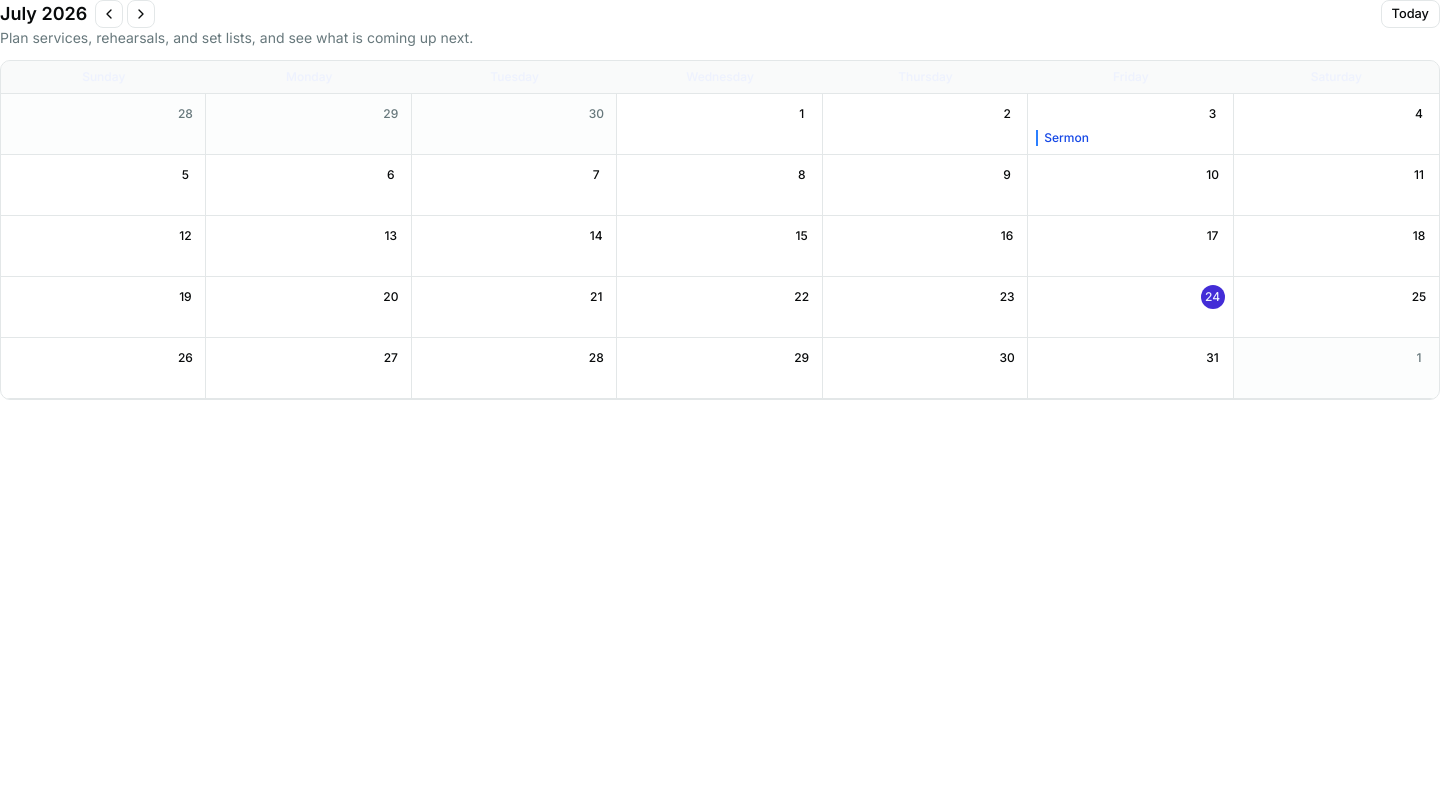
it: ScheduleCalendar › shows 'No roster yet.' and 'No songs yet.' placeholders in the popover when a lineup has neither
This screenshot has width=1440, height=810.
Click the button "Sermon" at (1130, 138), box [1036,130,1224,146]
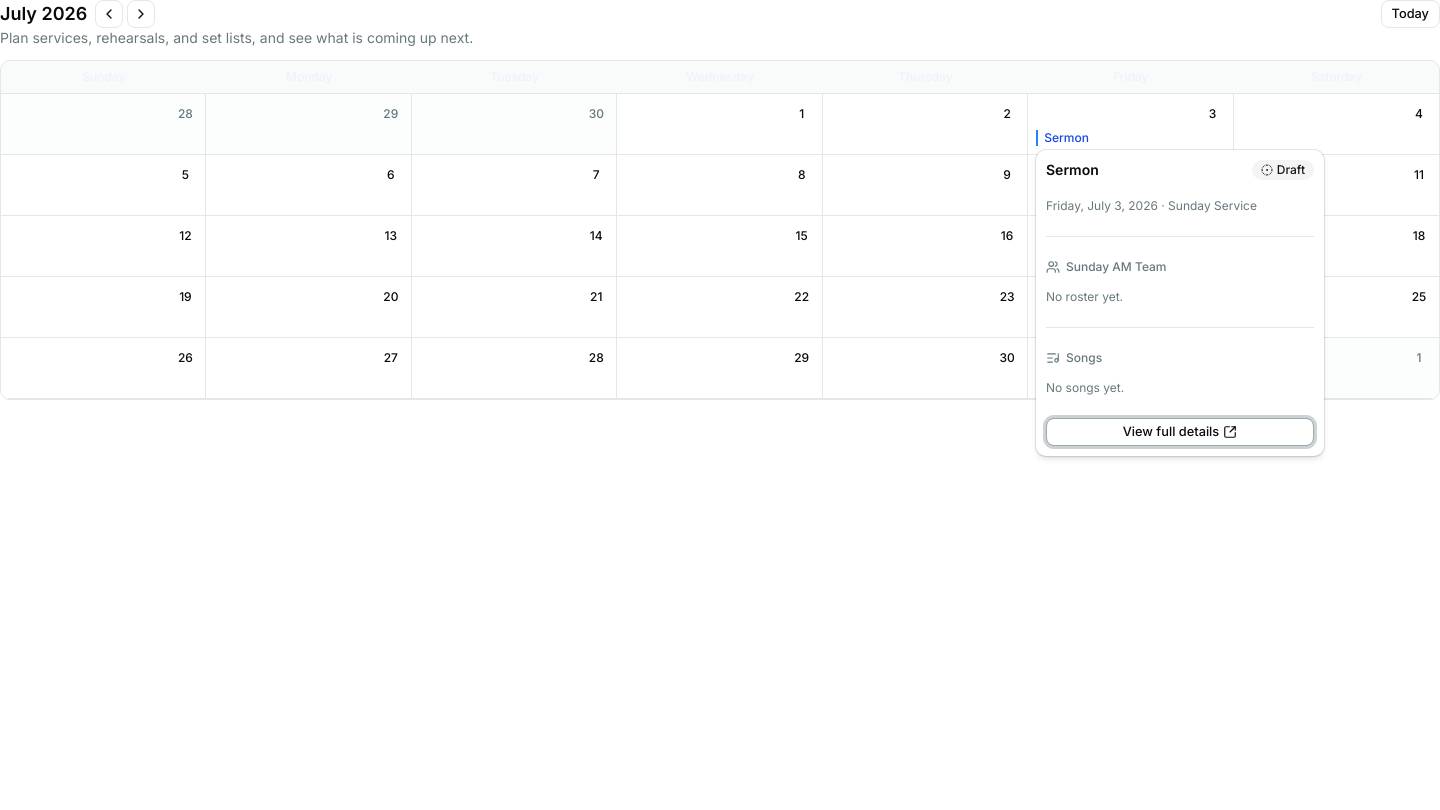
Now the text "No roster yet." is shown, box [1046,289,1123,304]
Now the text "No songs yet." is shown, box [1046,380,1124,395]
